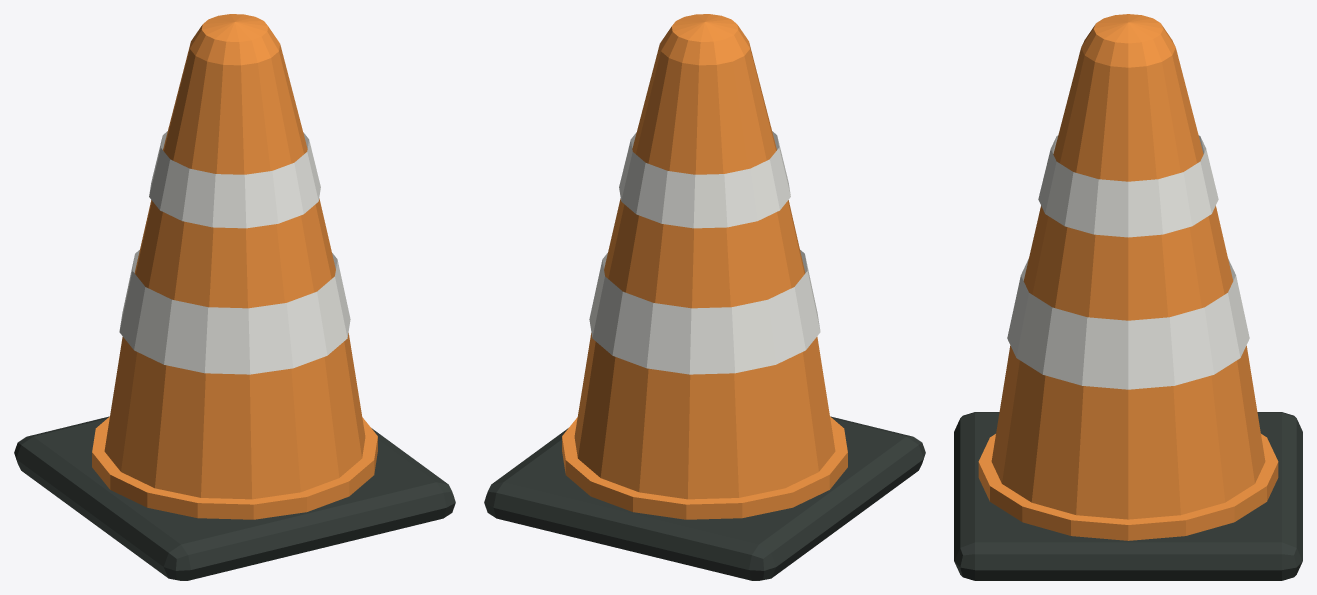
File: sm_env_prop_traffic_cone.glb
3 renders of one model, left to right at view 1: azimuth 30°, elevation 25°; view 2: azimuth 150°, elevation 25°; view 3: azimuth 270°, elevation 25°, orthographic. The views are drawn at different scales.
Visible parts, largest first — view 1: Cone, ConeBase, ConeBand, ConeBand.001, ConeFoot; view 2: Cone, ConeBase, ConeBand, ConeBand.001, ConeFoot; view 3: Cone, ConeBase, ConeBand, ConeBand.001, ConeFoot.
Part boxes in pixels (bbox=[...]): Cone: bbox=[104, 14, 365, 499]; ConeBase: bbox=[14, 416, 455, 580]; ConeBand: bbox=[119, 250, 350, 374]; ConeBand.001: bbox=[149, 131, 320, 228]; ConeFoot: bbox=[92, 416, 377, 519]; Cone: bbox=[574, 14, 835, 499]; ConeBase: bbox=[484, 416, 925, 580]; ConeBand: bbox=[589, 250, 820, 374]; ConeBand.001: bbox=[619, 131, 790, 228]; ConeFoot: bbox=[562, 416, 847, 519]; Cone: bbox=[991, 14, 1265, 519]; ConeBase: bbox=[954, 412, 1302, 580]; ConeBand: bbox=[1007, 259, 1249, 389]; ConeBand.001: bbox=[1038, 135, 1218, 237]; ConeFoot: bbox=[978, 434, 1278, 540].
Size of the model in its own units: 0.5 by 0.78 by 0.5.
